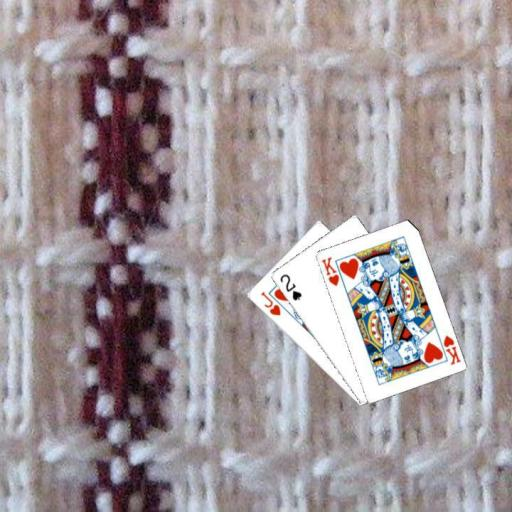2S: (277, 271, 303, 302)
JH: (258, 289, 282, 317)
KH: (318, 254, 341, 287), (440, 332, 462, 366)
